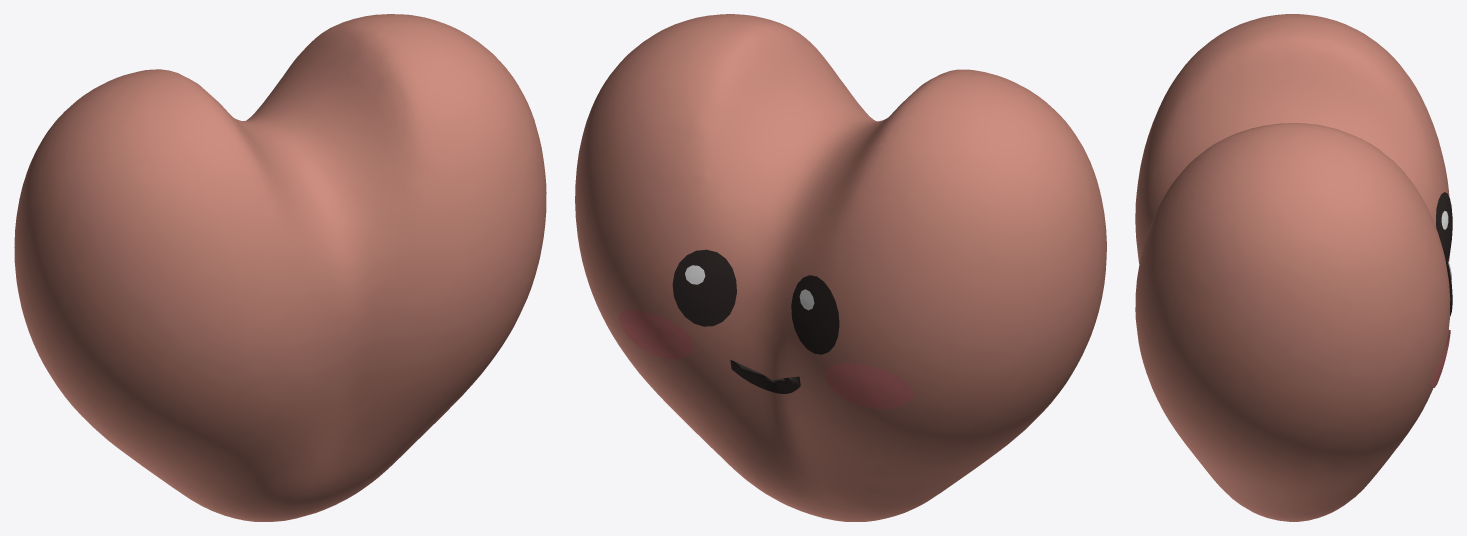
The model's file is heart.glb.
The picture shows the model from 3 angles, left to right: view 1: azimuth 30°, elevation 25°; view 2: azimuth 150°, elevation 25°; view 3: azimuth 270°, elevation 25°; orthographic projection. The views are drawn at different scales.
Parts seen in each view (by area): view 1: HeartBody; view 2: HeartBody, Eye2, Blush0, Eye0, Blush2, Mouth; view 3: HeartBody, Eye0.
Boxes of the visible parts, x1,y1,x2,y2 form: HeartBody: (14,14,546,521); HeartBody: (575,14,1106,521); Eye2: (672,249,736,326); Blush0: (825,363,913,409); Eye0: (791,275,839,354); Blush2: (619,309,694,359); Mouth: (730,359,800,393); HeartBody: (1135,14,1450,521); Eye0: (1436,192,1452,260).
Size of the model in its own units: 0.2797 by 0.2507 by 0.1675.
